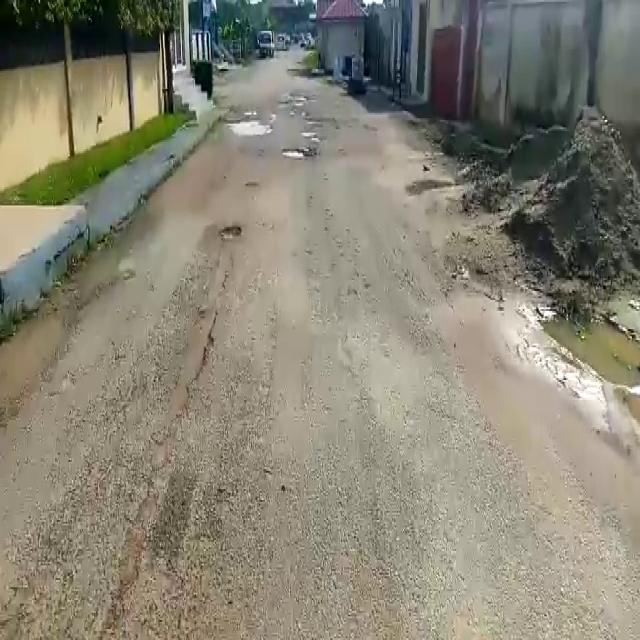Pothole: (227, 118, 273, 137), (280, 145, 314, 160), (218, 222, 243, 242)
